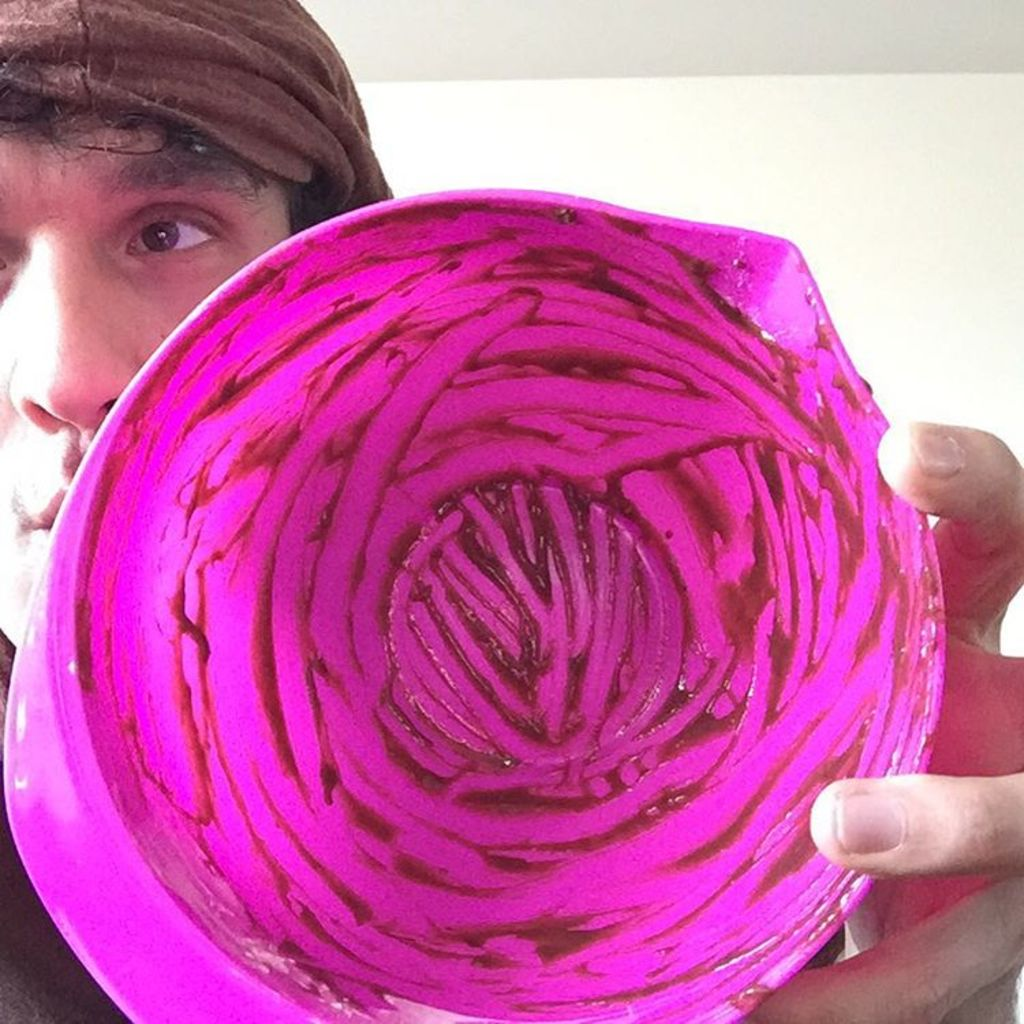Human_hand: (753, 418, 1023, 1023)
